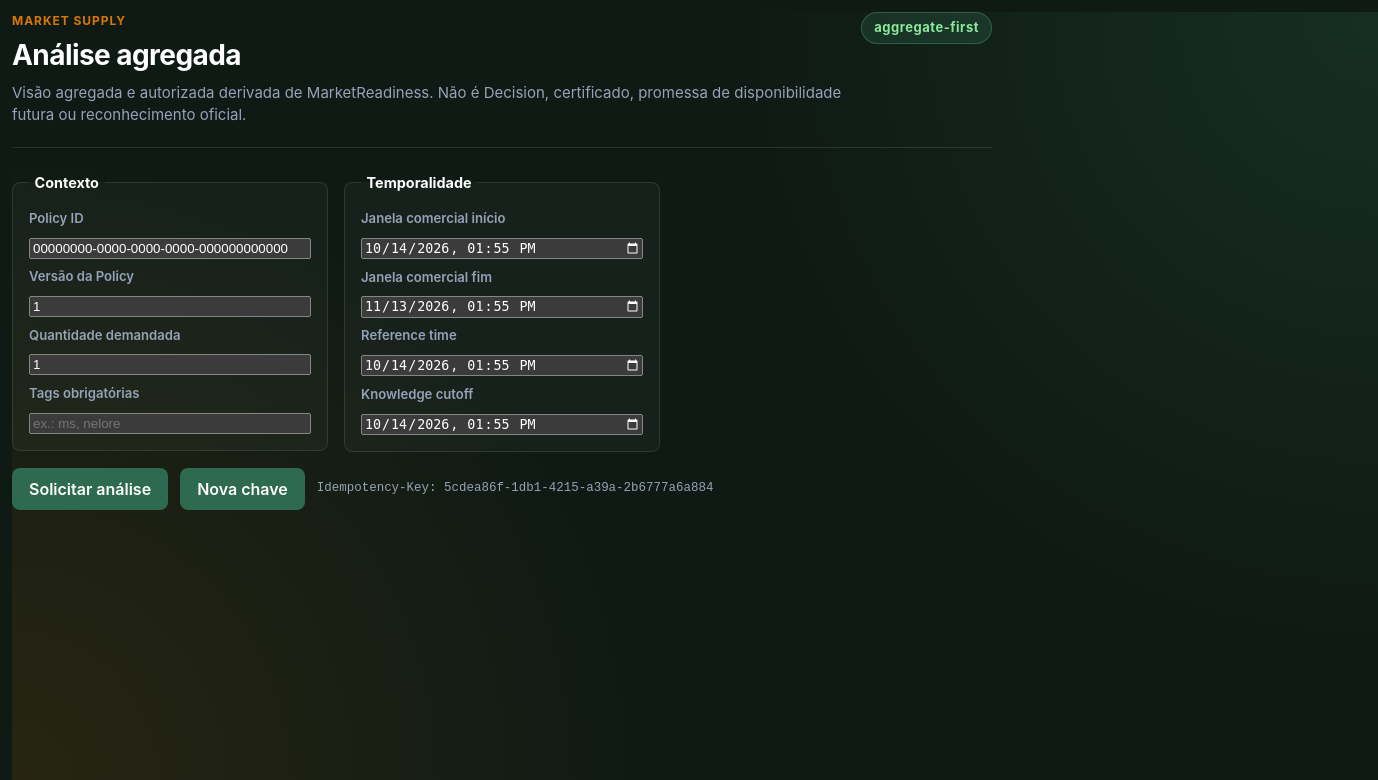
Scenario: MarketSupplyAggregate › mostra NOT_RELEASED sem revelar motivo interno
The image size is (1378, 780).
Step 1. Click the button "Solicitar análise" → (90, 489), box [12,468,168,510]
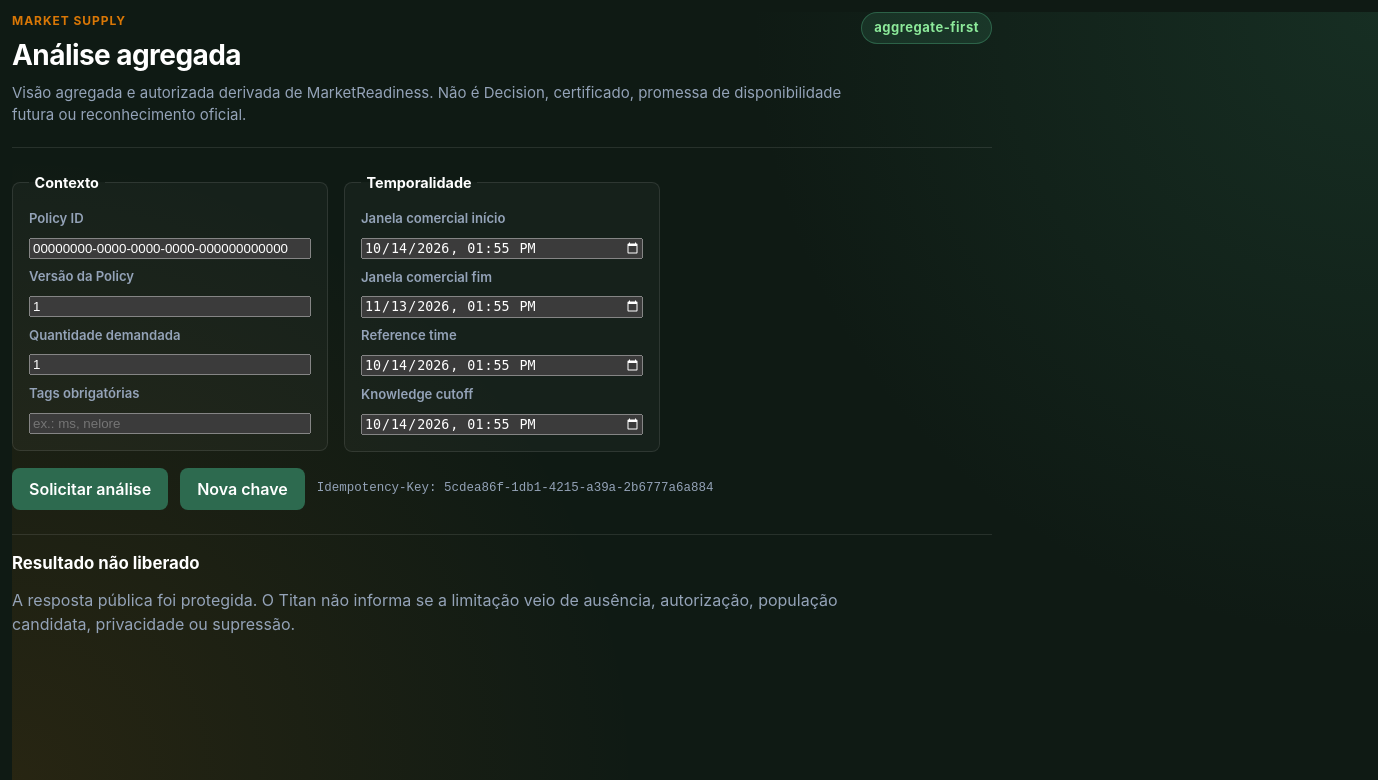
Expected: the message does not show "DIFFERENCING_RISK", [12,534,992,636]
Now the message shows "Resultado não liberado", box [12,553,200,573]
